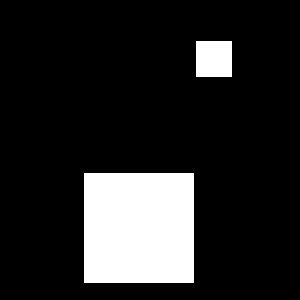circle: (84, 173, 194, 283), (85, 173, 165, 253), (196, 41, 232, 77)
